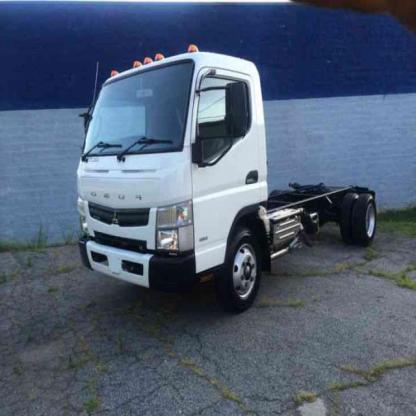truck: (78, 48, 380, 311)
